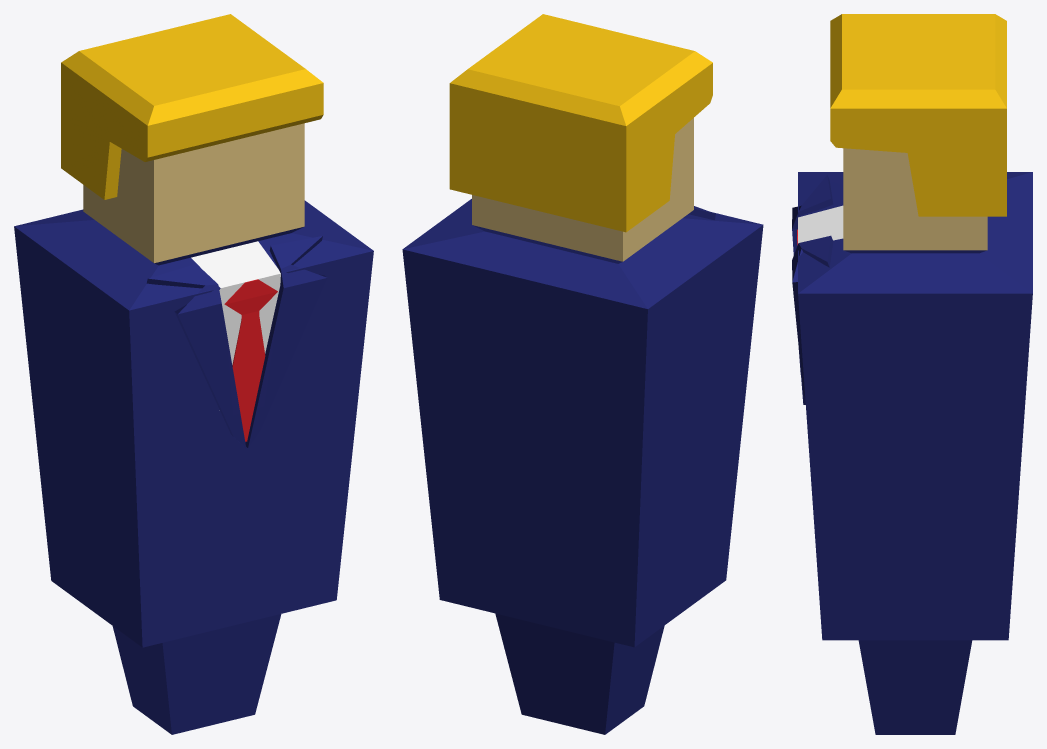
File: Человек №4.fbx
3 views of the same model, side by side, from view 1: azimuth 30°, elevation 25°; view 2: azimuth 150°, elevation 25°; view 3: azimuth 270°, elevation 25° (orthographic). The views are drawn at different scales.
Parts seen in each view (by area): view 1: Cube; view 2: Cube; view 3: Cube.
Boxes of the visible parts, bbox=[...] form: Cube: bbox=[14, 14, 373, 734]; Cube: bbox=[402, 14, 763, 734]; Cube: bbox=[792, 14, 1032, 734].
Bounding box in the file's own units: 200 × 507 × 167.
